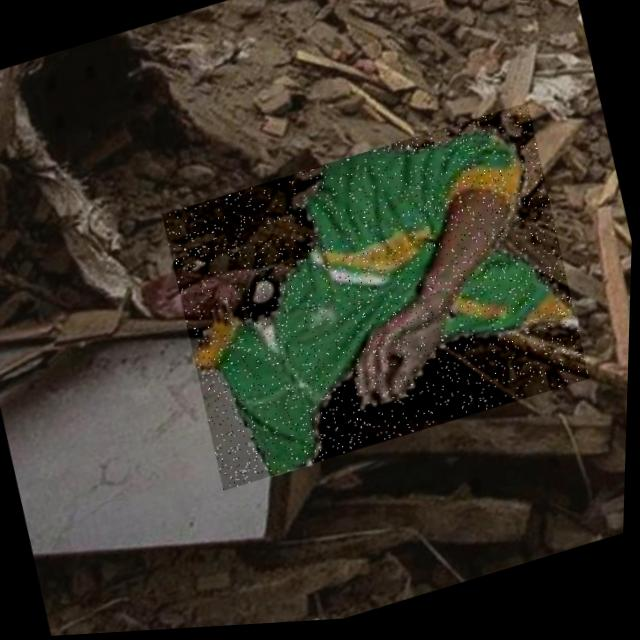Person in Rubble: (156, 106, 598, 497)
